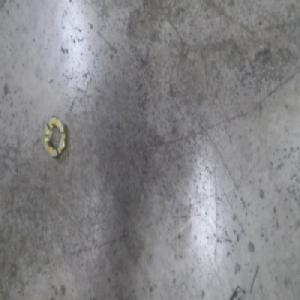Nut: (40, 112, 68, 160)
